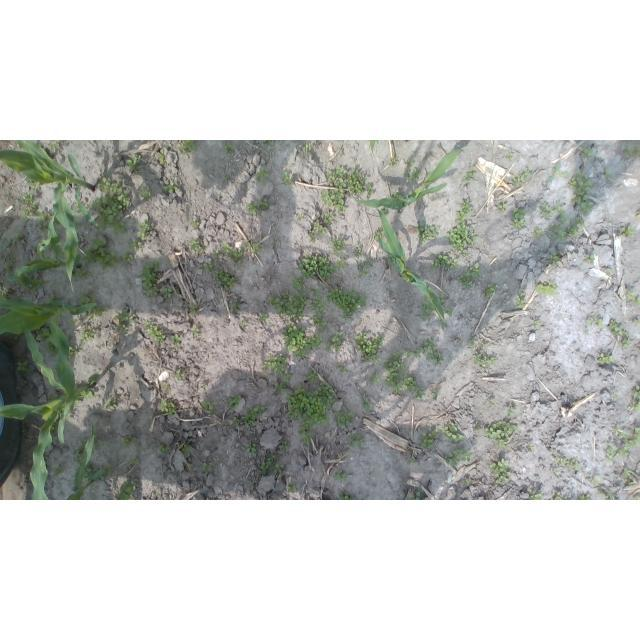Maize: (0, 320, 102, 500), (1, 140, 98, 294), (0, 292, 96, 411), (372, 208, 448, 329), (354, 149, 462, 211), (0, 212, 80, 289), (61, 420, 104, 500), (370, 141, 397, 156)
Weeds: (86, 176, 131, 235), (321, 166, 367, 214), (286, 382, 336, 426), (445, 199, 479, 258), (282, 322, 323, 359), (326, 287, 367, 319), (567, 170, 596, 214), (83, 236, 121, 268), (269, 291, 308, 319), (299, 253, 336, 282), (484, 420, 518, 450), (382, 352, 406, 394), (77, 291, 107, 322), (34, 320, 59, 357), (354, 332, 383, 363), (587, 474, 620, 500), (613, 424, 640, 451), (140, 260, 160, 296), (488, 457, 512, 487), (420, 338, 444, 368), (549, 453, 580, 476), (444, 447, 475, 468), (456, 263, 481, 289), (35, 210, 60, 235), (220, 241, 244, 266), (416, 220, 441, 244), (261, 354, 287, 377), (70, 254, 92, 281), (213, 265, 236, 290), (242, 404, 268, 426), (603, 441, 631, 461), (62, 326, 79, 358), (403, 377, 425, 401), (143, 321, 165, 344), (547, 161, 570, 183), (440, 423, 464, 444), (430, 254, 459, 271), (113, 309, 134, 331), (473, 352, 497, 371), (334, 406, 354, 427), (115, 481, 137, 500), (83, 461, 99, 487), (19, 192, 38, 213), (420, 427, 438, 449), (357, 255, 375, 277), (74, 437, 89, 463), (325, 332, 344, 352), (512, 167, 532, 186), (259, 453, 276, 475), (247, 199, 269, 216), (510, 207, 526, 230), (627, 385, 640, 412), (535, 282, 558, 297), (136, 219, 152, 240), (158, 398, 176, 416), (550, 224, 567, 243), (51, 412, 61, 444), (420, 300, 435, 321), (16, 359, 37, 374), (16, 281, 40, 294), (310, 315, 327, 333), (347, 432, 365, 449), (607, 319, 623, 338), (127, 152, 142, 172), (245, 240, 264, 255), (225, 394, 242, 410), (585, 313, 603, 328), (360, 393, 374, 412), (80, 323, 94, 342), (310, 220, 326, 236), (539, 203, 555, 219), (310, 299, 327, 314), (299, 426, 313, 444), (44, 140, 62, 154), (621, 467, 635, 485), (514, 290, 527, 309), (545, 251, 561, 266), (331, 238, 346, 254), (137, 186, 152, 202), (180, 140, 197, 154), (568, 219, 581, 237), (406, 169, 421, 184), (462, 166, 477, 181), (626, 289, 640, 305), (255, 168, 269, 184), (281, 171, 295, 187), (104, 394, 117, 411), (155, 148, 167, 166), (129, 238, 144, 252), (190, 238, 205, 252), (333, 470, 349, 483), (162, 181, 178, 194), (624, 146, 640, 159), (598, 353, 615, 365), (8, 233, 25, 245), (291, 277, 305, 291), (306, 370, 320, 384), (28, 177, 41, 192), (528, 489, 545, 500), (102, 464, 116, 477), (481, 285, 495, 298), (619, 225, 634, 237), (258, 309, 270, 324), (5, 332, 25, 341), (224, 143, 237, 156), (368, 373, 381, 386), (122, 437, 137, 448), (532, 226, 545, 238), (581, 146, 594, 158), (201, 401, 215, 412), (171, 370, 185, 381), (170, 334, 182, 346), (551, 492, 569, 500), (230, 300, 242, 312), (161, 287, 172, 300), (122, 253, 135, 264), (335, 363, 349, 373), (366, 183, 374, 200), (198, 262, 213, 271), (619, 338, 631, 349), (583, 253, 595, 264), (274, 382, 286, 393), (436, 292, 447, 304), (429, 389, 441, 400), (245, 443, 258, 453), (323, 211, 333, 224), (338, 492, 354, 500), (80, 391, 94, 400), (47, 394, 65, 401), (158, 443, 169, 454), (505, 406, 516, 417), (443, 306, 454, 317), (374, 231, 385, 242), (71, 202, 81, 214), (0, 285, 10, 297), (308, 287, 320, 297), (283, 370, 293, 382), (53, 463, 63, 475), (0, 307, 12, 317), (572, 494, 591, 500), (189, 218, 200, 228), (274, 463, 285, 473), (287, 482, 297, 493), (576, 216, 585, 228), (191, 325, 200, 337), (406, 156, 415, 168), (408, 492, 421, 500), (308, 231, 316, 244), (558, 216, 571, 224), (46, 296, 63, 302), (531, 319, 541, 329), (188, 304, 198, 314), (336, 259, 346, 269), (202, 463, 213, 472), (403, 349, 414, 358), (469, 337, 478, 348), (556, 204, 565, 215), (26, 435, 37, 444), (263, 140, 275, 148), (20, 209, 29, 219), (380, 206, 389, 216), (602, 169, 611, 179), (161, 383, 171, 392), (130, 456, 141, 464), (181, 444, 192, 452), (280, 441, 288, 452), (475, 423, 483, 434), (302, 143, 311, 152), (390, 158, 399, 167), (498, 204, 507, 213), (354, 248, 362, 257), (526, 442, 534, 451), (603, 269, 613, 276), (233, 416, 240, 426), (94, 439, 104, 446), (409, 456, 416, 464), (480, 343, 488, 350), (507, 152, 514, 160), (633, 492, 640, 500), (611, 393, 618, 400), (71, 319, 78, 326), (463, 479, 469, 486), (297, 214, 303, 221), (242, 320, 249, 326), (214, 250, 219, 258), (635, 212, 640, 220), (623, 331, 629, 337), (224, 176, 233, 180), (201, 383, 207, 389), (633, 320, 640, 325), (625, 141, 636, 144), (74, 399, 82, 403), (273, 239, 279, 244), (489, 400, 495, 404)
